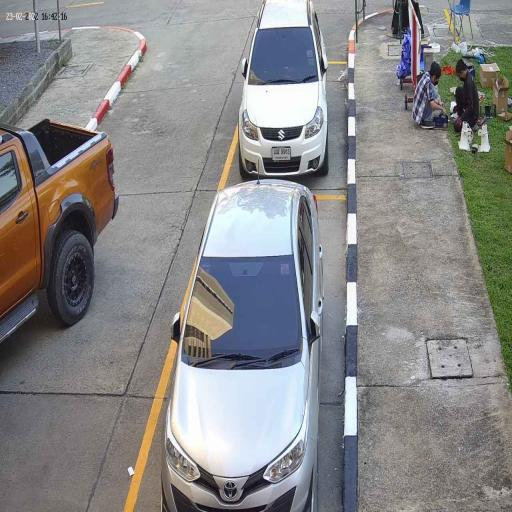car: (158, 178, 326, 512), (0, 116, 121, 348), (237, 0, 330, 182)
